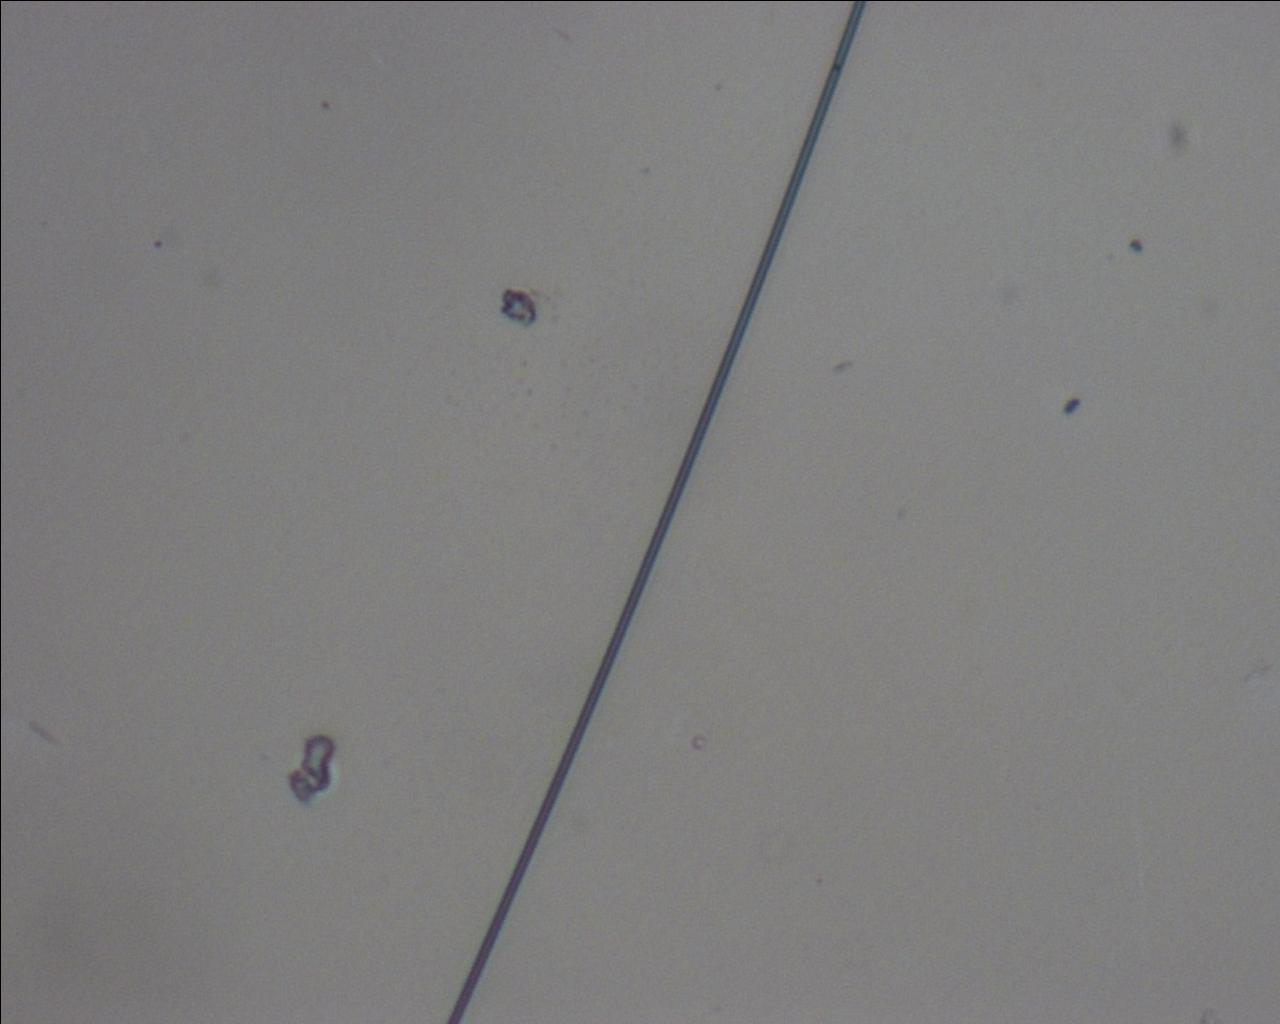fiber: (443, 0, 869, 1024)
